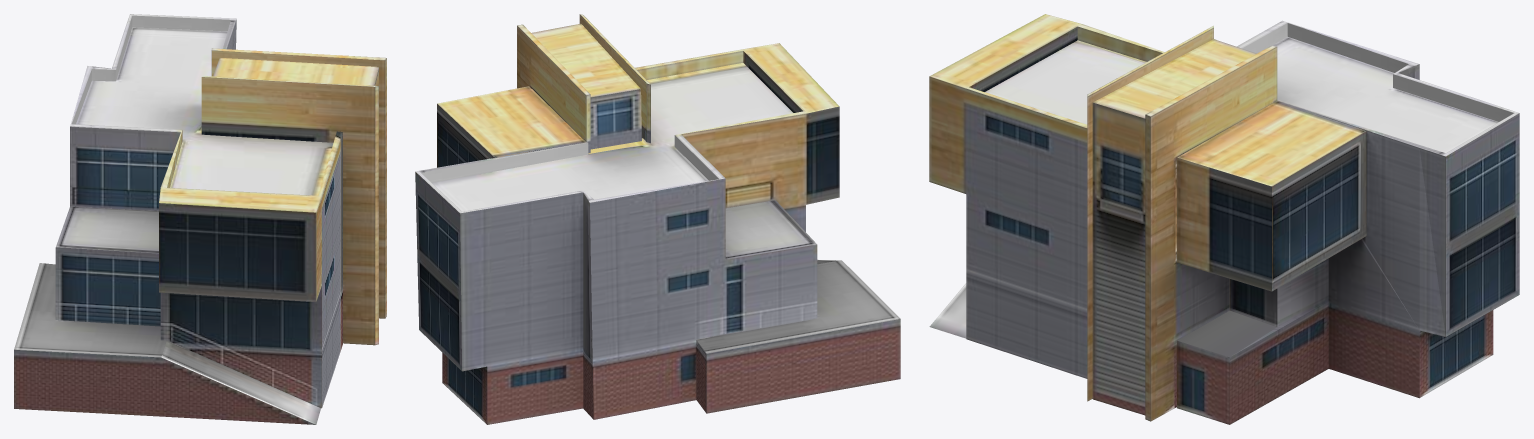
The picture shows the model from 3 angles, left to right: view 1: azimuth 30°, elevation 25°; view 2: azimuth 150°, elevation 25°; view 3: azimuth 270°, elevation 25°; orthographic projection. The views are drawn at different scales.
Visible parts, largest first — view 1: MainBuilding; view 2: MainBuilding; view 3: MainBuilding.
Boxes of the visible parts, x1,y1,x2,y2 form: MainBuilding: (14, 14, 386, 424); MainBuilding: (415, 14, 900, 424); MainBuilding: (929, 14, 1519, 424).
Bounding box in the file's own units: 1.62 × 0.9974 × 1.75.
1 material, 1 textured.
